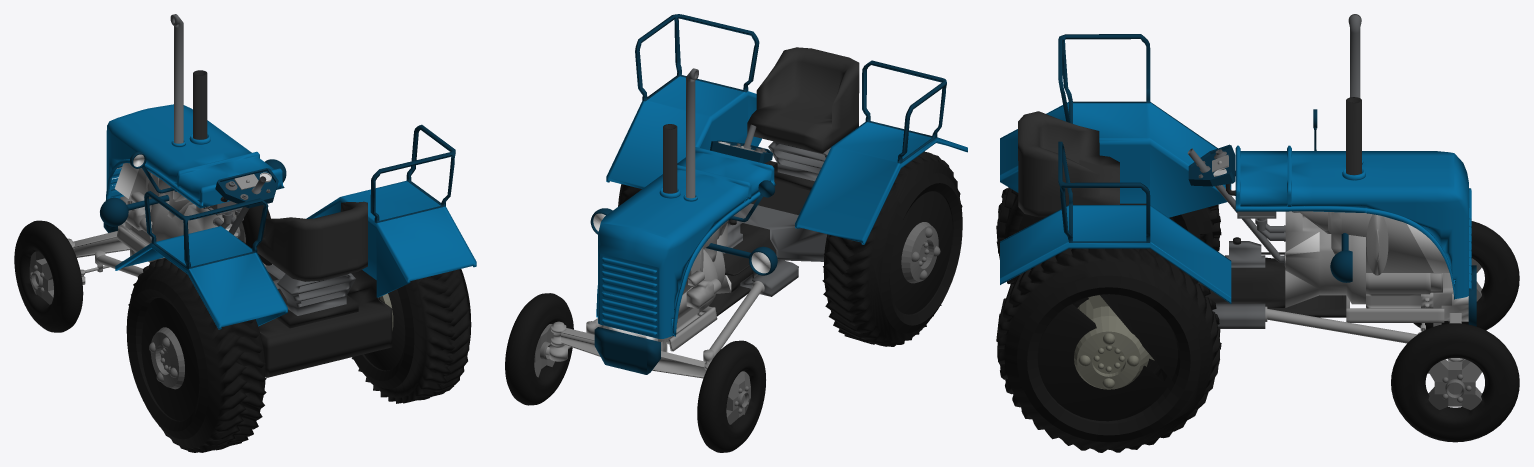
Rendered from tractor3.fbx.
The picture shows the model from 3 angles, left to right: view 1: azimuth 30°, elevation 25°; view 2: azimuth 150°, elevation 25°; view 3: azimuth 270°, elevation 25°; orthographic projection. The views are drawn at different scales.
Visible parts, largest first — view 1: Model, RB_wheel, LB_wheel, RF_wheel, LF_wheel; view 2: Model, RB_wheel, RF_wheel, LF_wheel; view 3: Model, LB_wheel, LF_wheel, RF_wheel, RB_wheel.
Part boxes in pixels (x1,y1,x2,y2): Model: [67, 14, 476, 377]; RB_wheel: [126, 258, 266, 452]; LB_wheel: [351, 269, 471, 403]; RF_wheel: [14, 220, 83, 332]; LF_wheel: [236, 205, 272, 265]; Model: [545, 14, 967, 378]; RB_wheel: [822, 151, 962, 346]; RF_wheel: [697, 340, 765, 452]; LF_wheel: [505, 293, 573, 405]; Model: [1000, 14, 1476, 373]; LB_wheel: [996, 248, 1221, 452]; LF_wheel: [1391, 323, 1519, 442]; RF_wheel: [1413, 221, 1519, 330]; RB_wheel: [996, 187, 1221, 284].
Bounding box in the file's own units: 887 × 996 × 1289.
